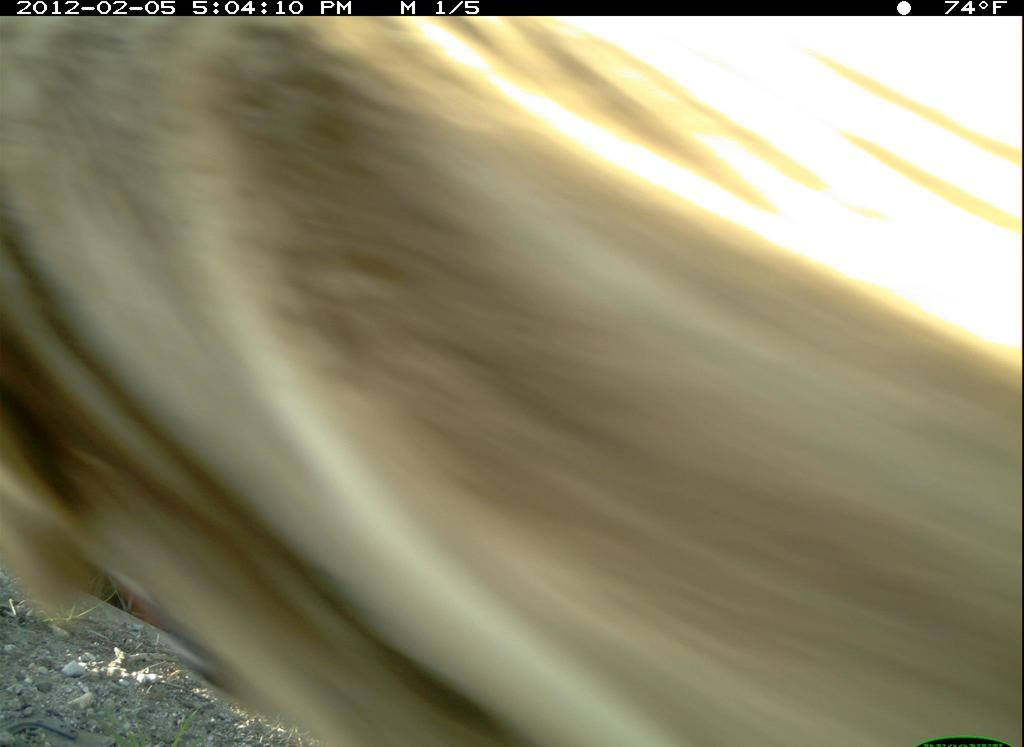dog: (4, 19, 1024, 747)
